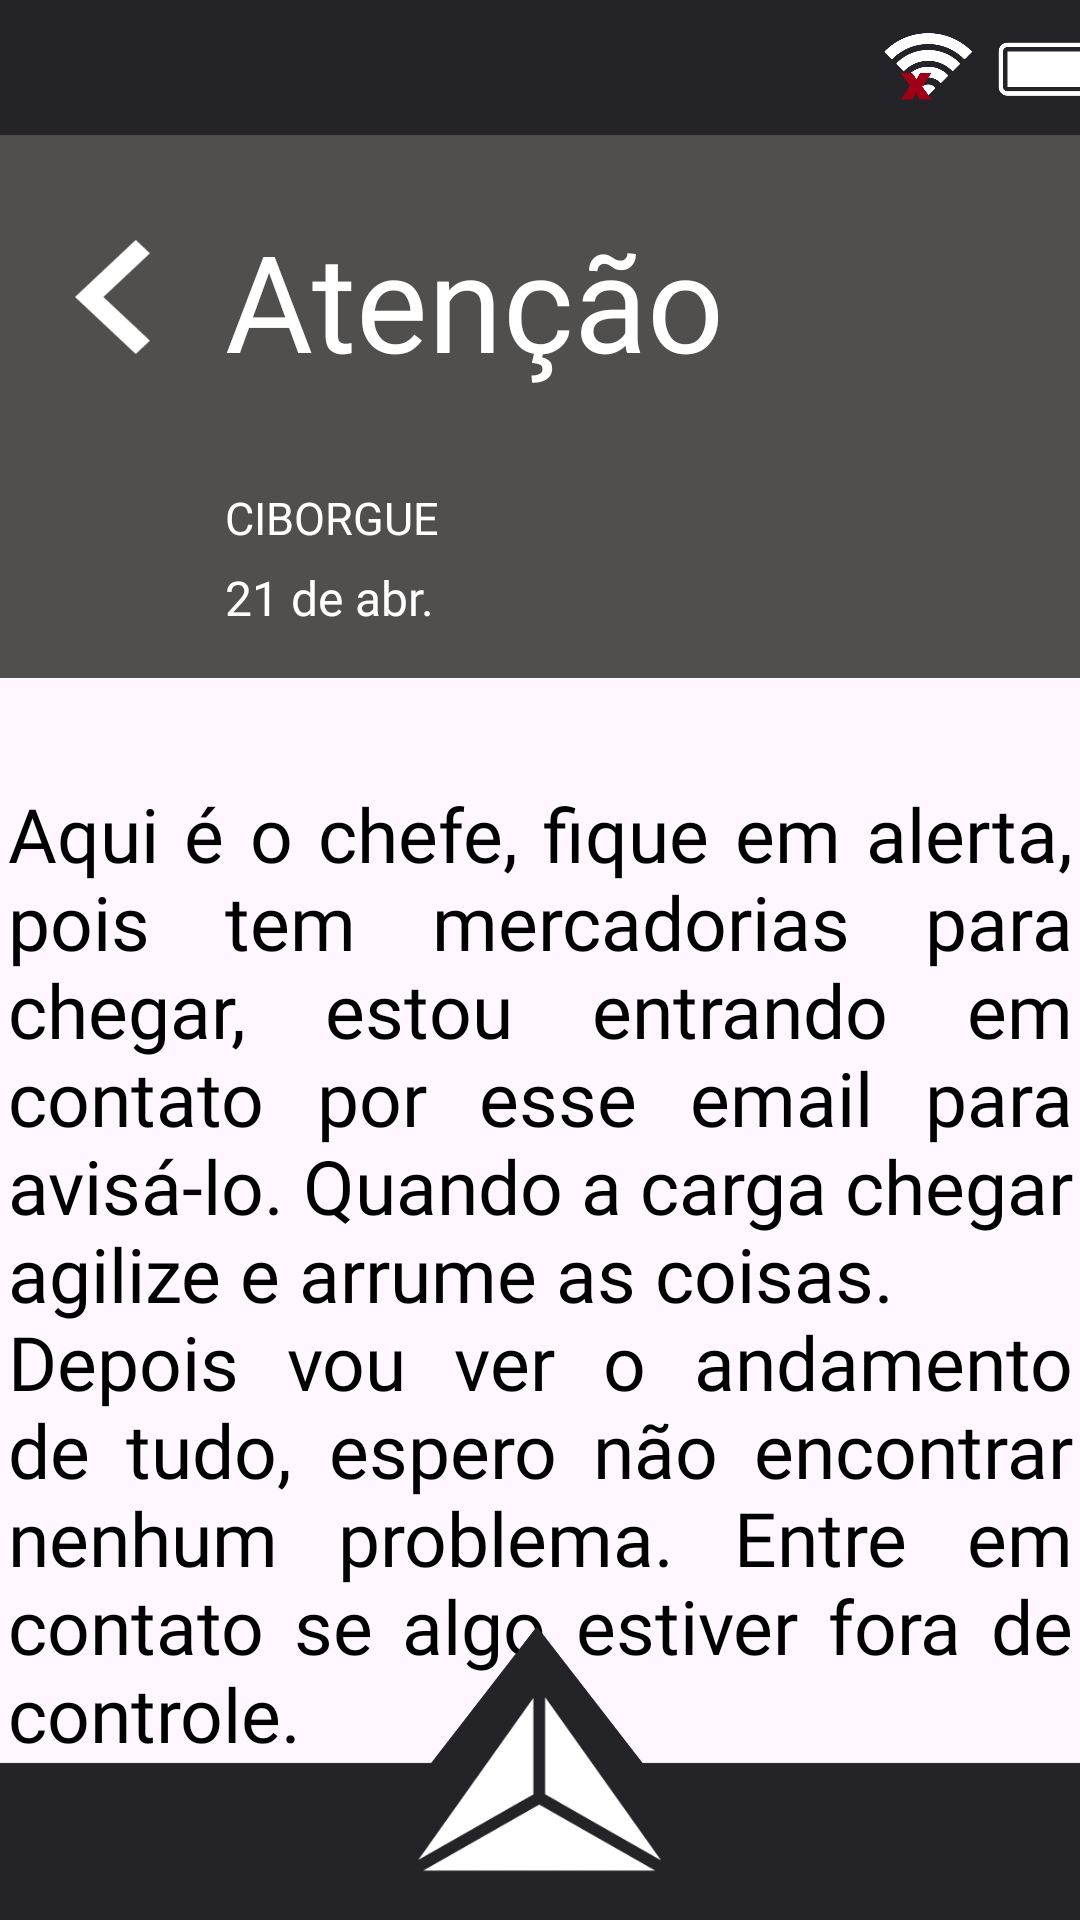

Icon bounding boxes for this 1080 x 1920 phone screenshot, format (x1, y1, x2, y2):
btnvoltaremail: (75, 240, 150, 354)
